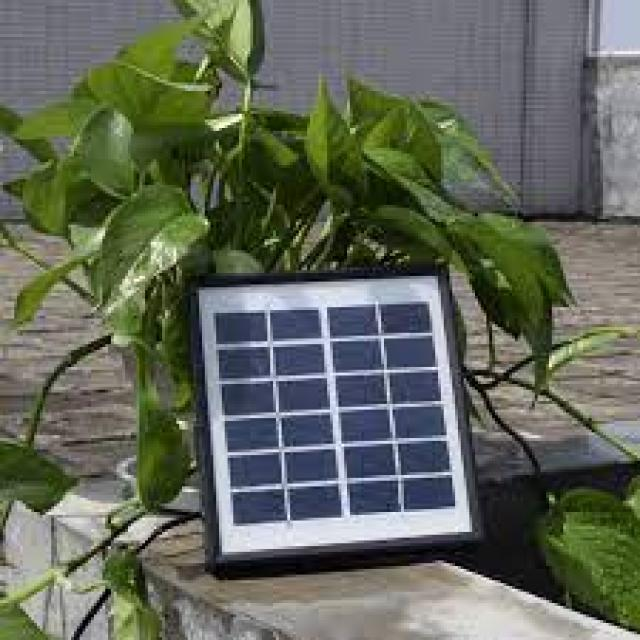no faulty: (215, 292, 455, 538)
